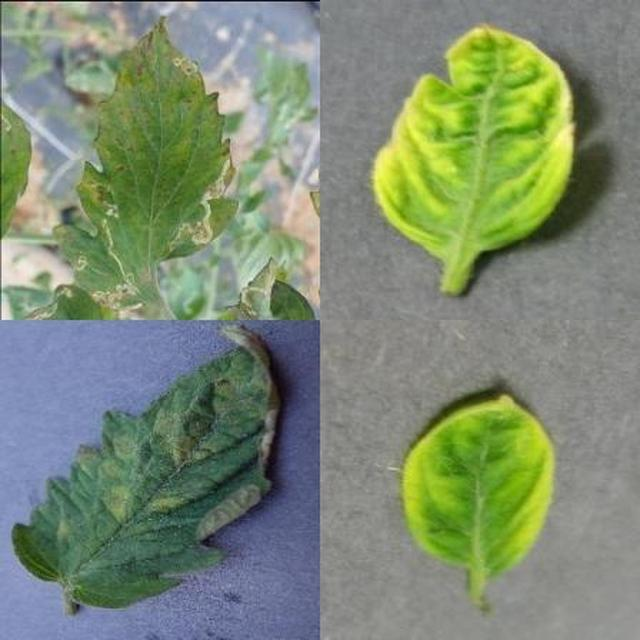Leaf Miner: (209, 200, 640, 640)
